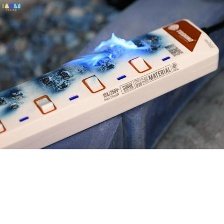three_eye_plug: (0, 16, 221, 149)
